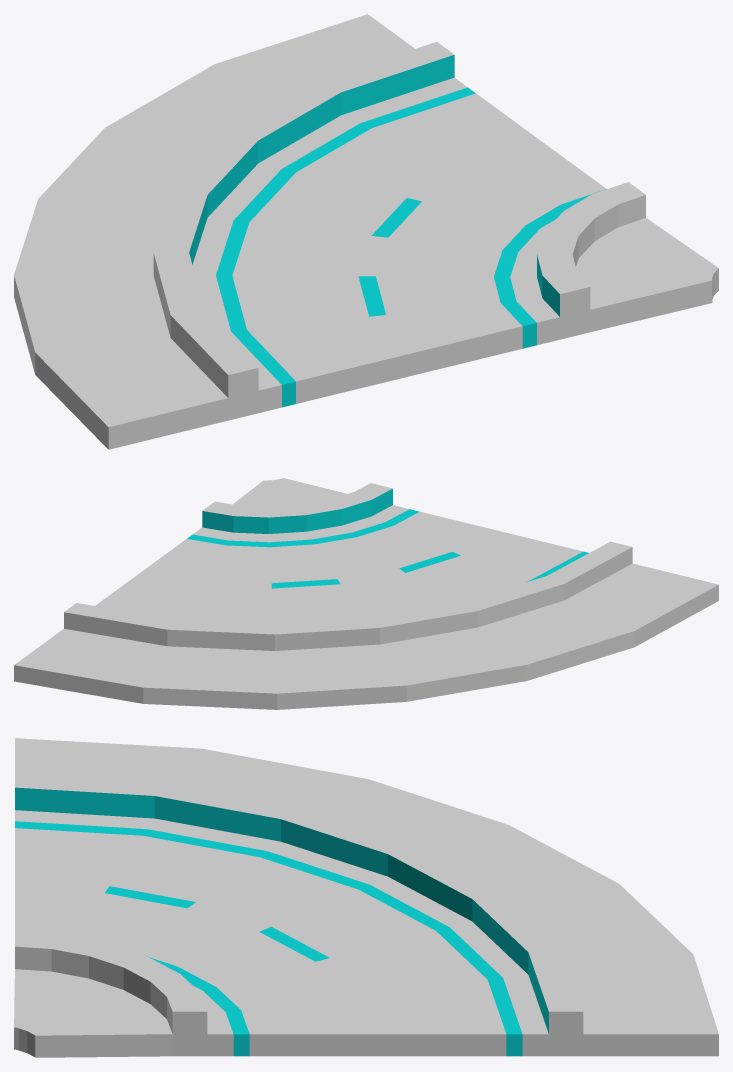
Rendered from SM_Road_Corner.fbx.
3 views of the same model, one above another, from view 1: azimuth 30°, elevation 25°; view 2: azimuth 150°, elevation 25°; view 3: azimuth 270°, elevation 25° (orthographic). The views are drawn at different scales.
Parts seen in each view (by area): view 1: Plane.018; view 2: Plane.018; view 3: Plane.018.
Part boxes in pixels (x1,y1,x2,y2): Plane.018: (14, 14, 718, 449); Plane.018: (14, 478, 718, 709); Plane.018: (14, 738, 718, 1057).
Size of the model in its own units: 5.77 by 0.4039 by 5.78.
